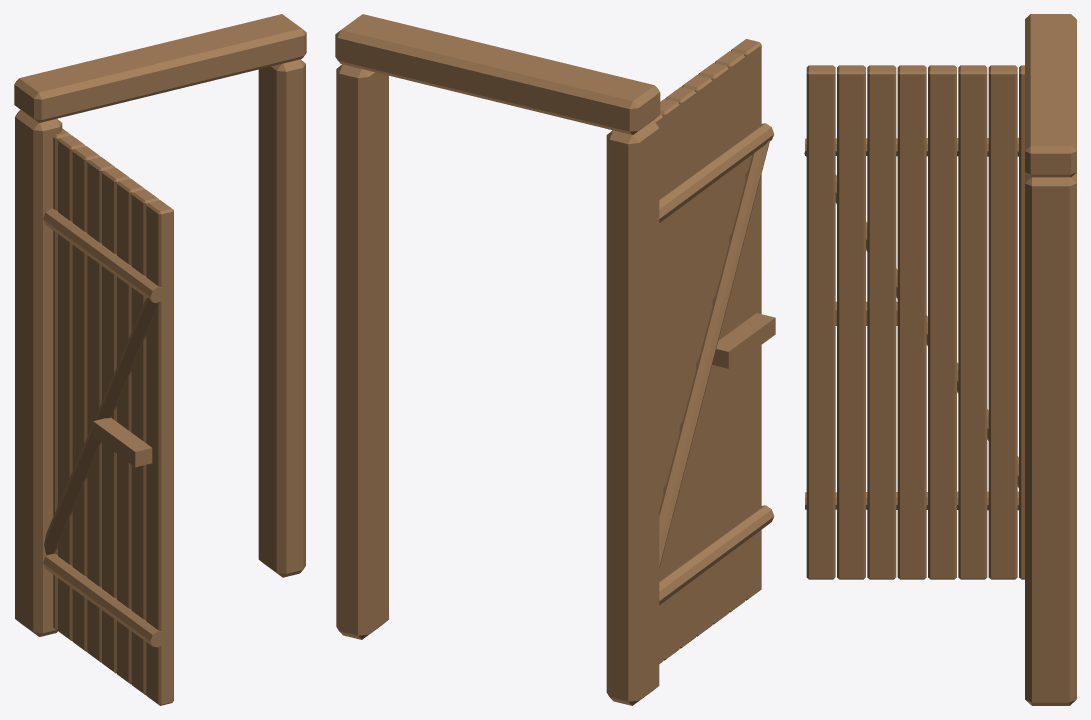
3 views of the same model, side by side, from view 1: azimuth 30°, elevation 25°; view 2: azimuth 150°, elevation 25°; view 3: azimuth 270°, elevation 25° (orthographic). The views are drawn at different scales.
Visible parts, largest first — view 1: CE-077 Open timber village entrance door batched; view 2: CE-077 Open timber village entrance door batched; view 3: CE-077 Open timber village entrance door batched.
Part boxes in pixels (x1,y1,x2,y2): CE-077 Open timber village entrance door batched: (14,14,306,705); CE-077 Open timber village entrance door batched: (335,14,775,705); CE-077 Open timber village entrance door batched: (804,14,1076,705).
Bounding box in the file's own units: 1.12 × 2.14 × 0.9436.
